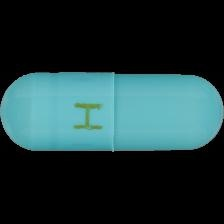31722-573: (0, 0, 224, 224)
